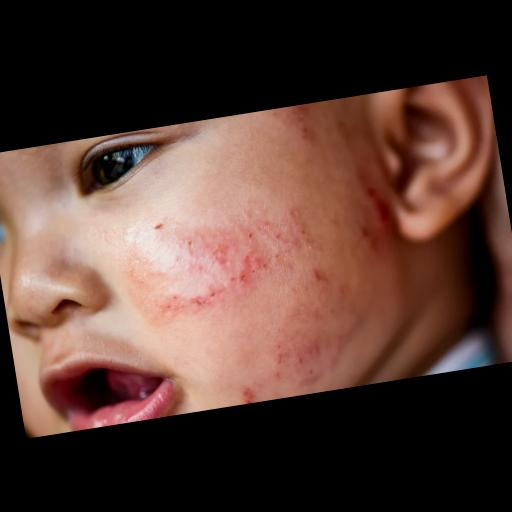Skin_Lesion: (238, 252, 266, 286), (188, 282, 222, 310), (288, 338, 323, 364), (370, 201, 394, 227), (300, 362, 322, 388), (158, 288, 180, 312), (360, 177, 382, 201), (238, 378, 258, 404), (180, 230, 198, 256), (294, 118, 312, 144), (356, 214, 374, 240), (310, 261, 330, 283), (271, 342, 288, 365), (210, 247, 229, 266), (284, 204, 302, 224), (293, 234, 310, 254), (270, 232, 292, 244), (243, 226, 258, 242), (269, 248, 283, 264), (152, 215, 165, 231), (274, 368, 284, 380)
